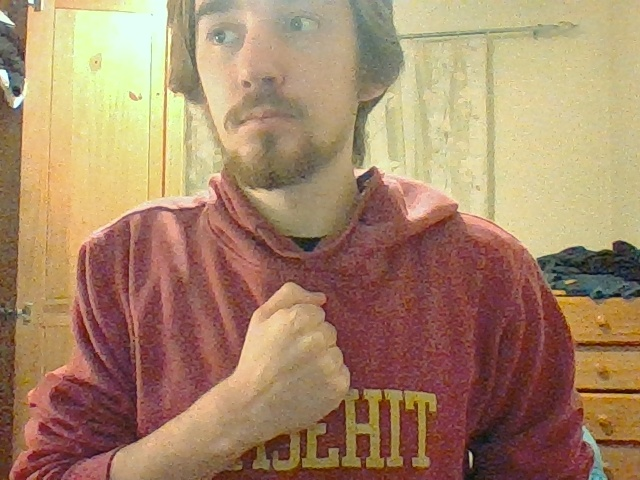my: (245, 282, 351, 432)
